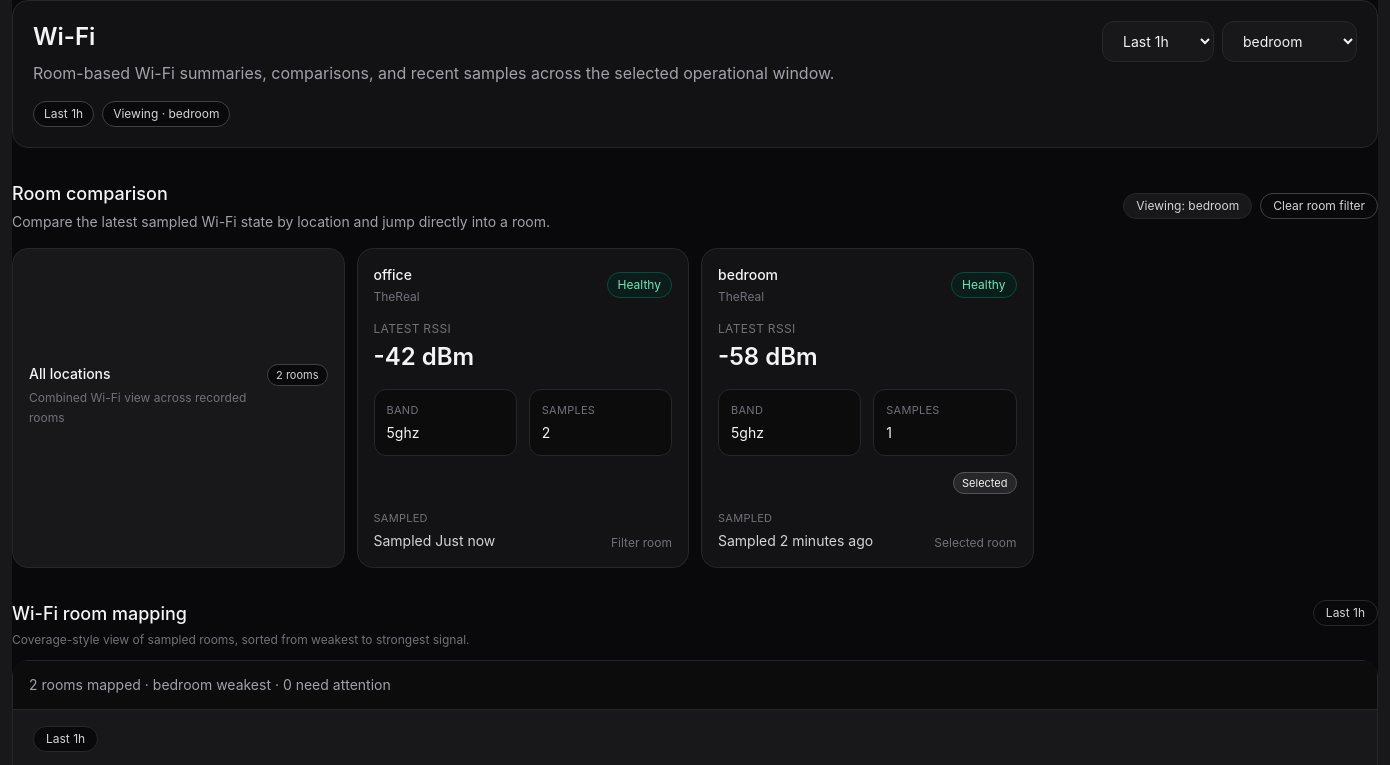
Test: WifiPage › clears the active room filter
Click the button "bedroom" at (748, 274), box [701,248,1034,568]
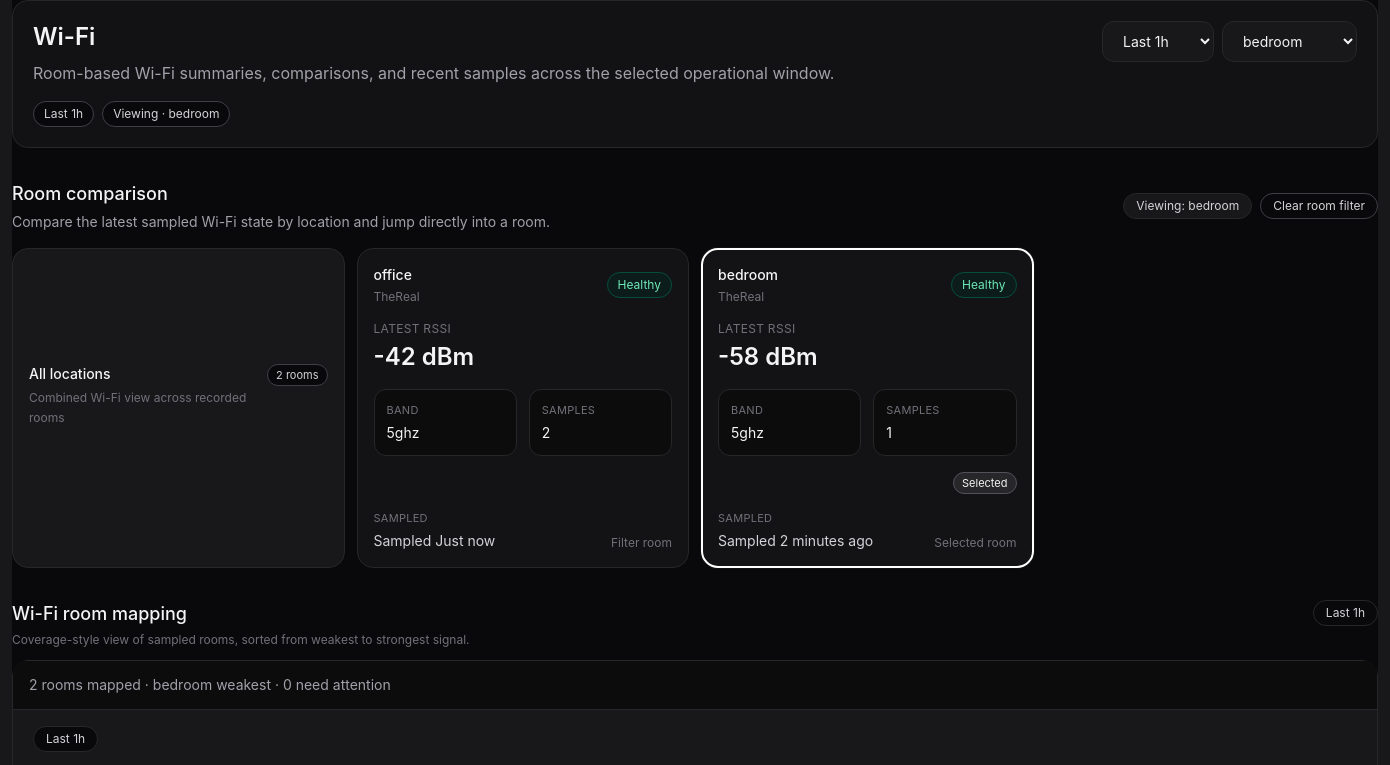
Click the button "Clear room filter" at (1319, 206), box [1260,193,1378,219]
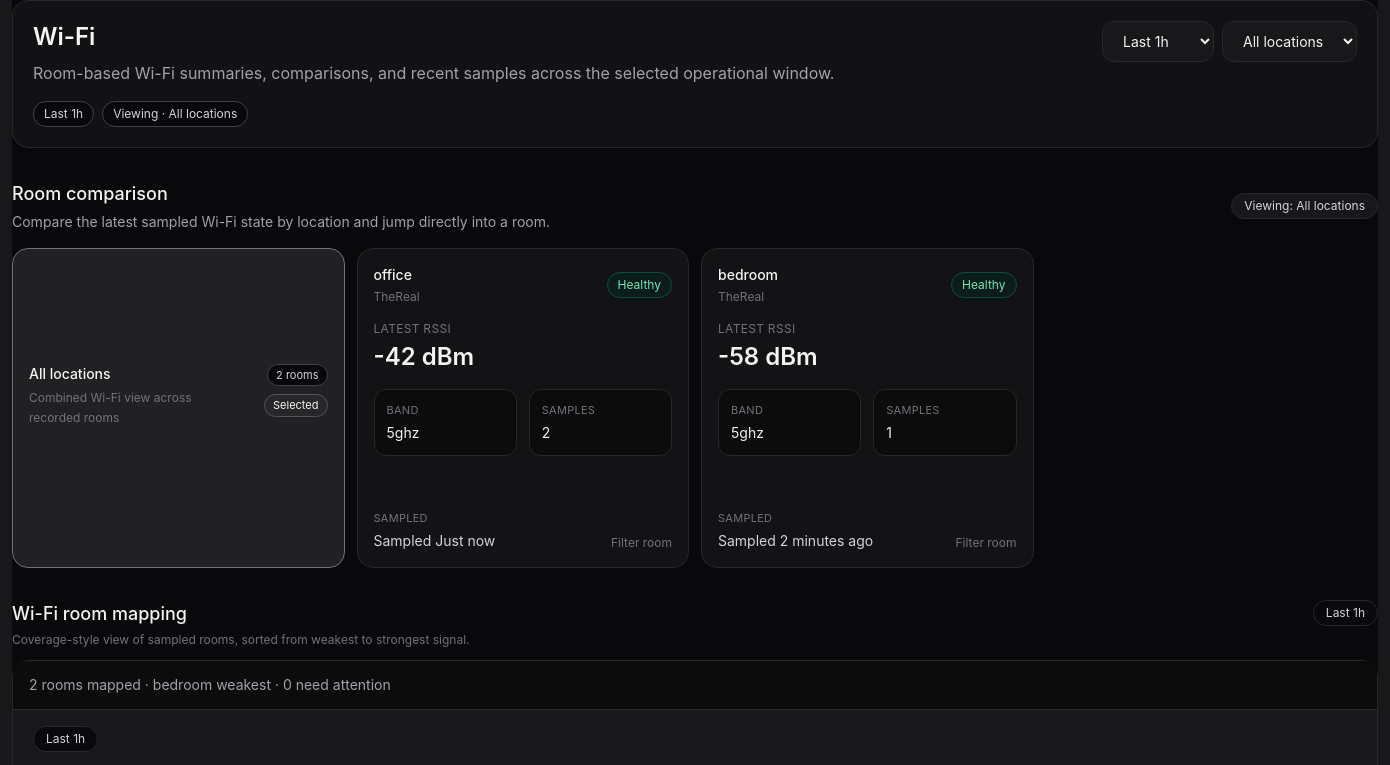
Expected: the text "Viewing: All locations" is shown, [1231,193,1378,219]
